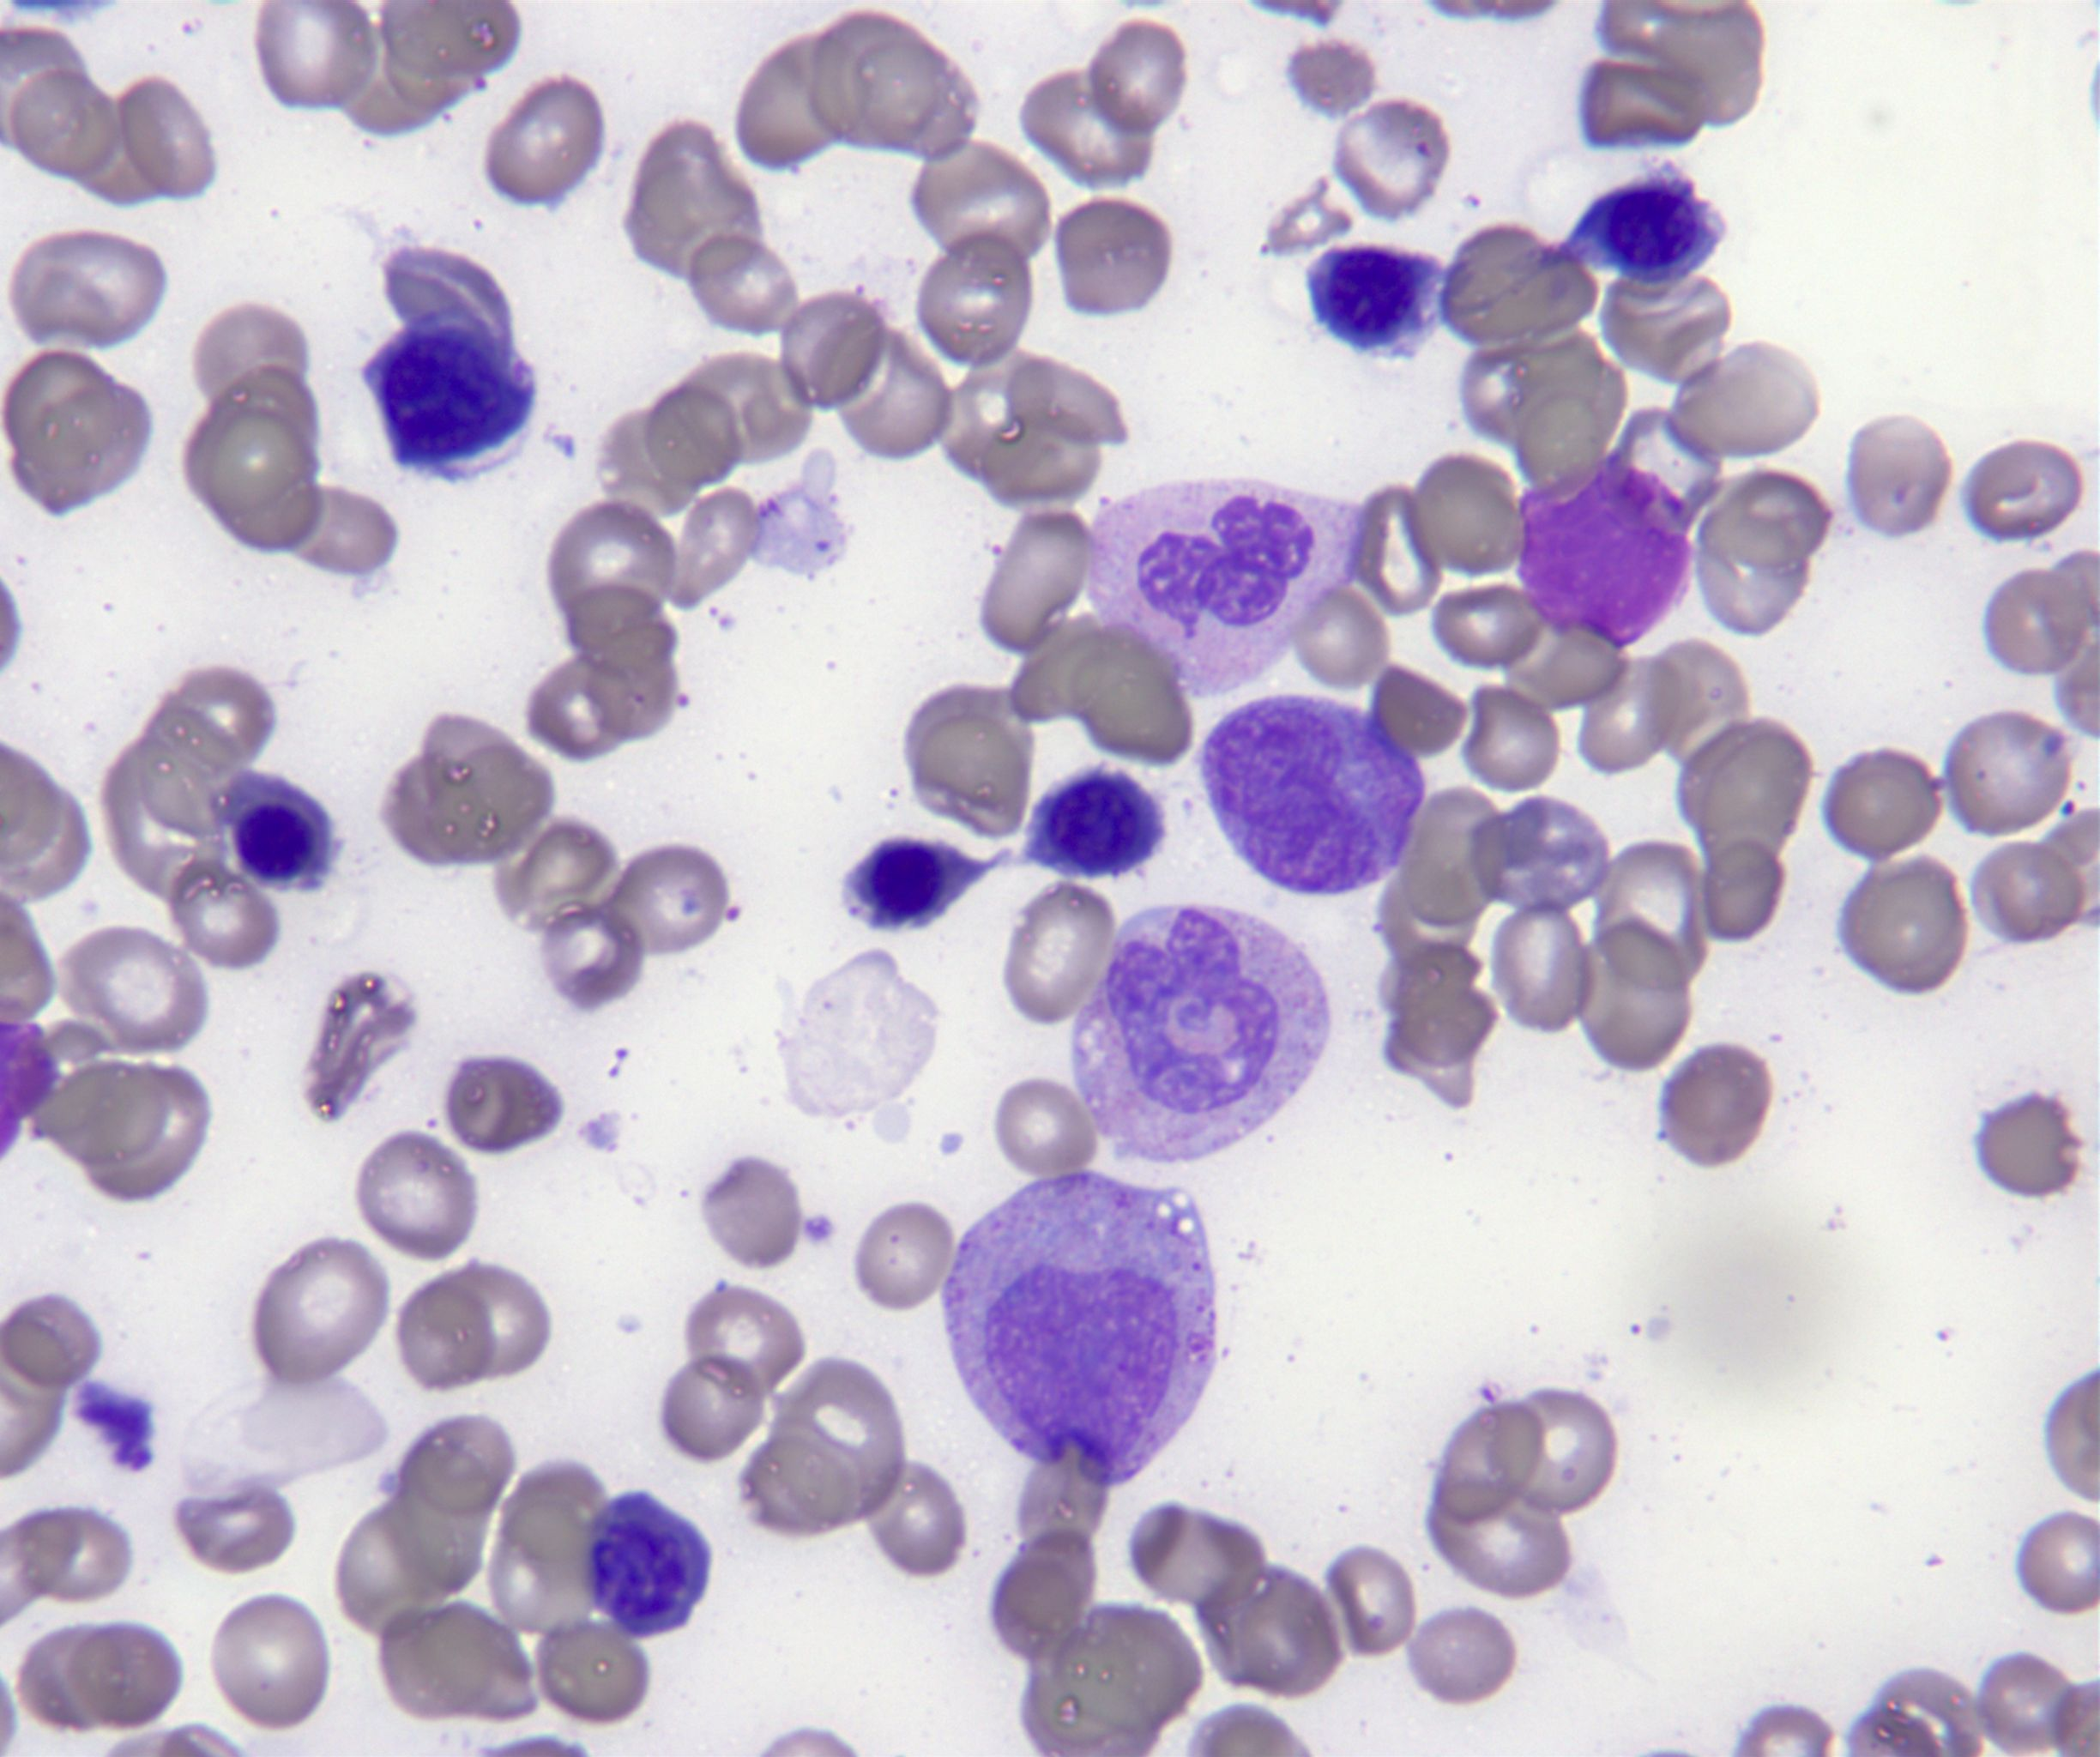23: (358, 305, 537, 482), (1535, 155, 1730, 286), (1306, 244, 1472, 361), (588, 1492, 713, 1637), (1019, 761, 1170, 879), (839, 834, 1012, 935)
24: (213, 768, 345, 892)
3: (942, 1172, 1221, 1488)
42: (1195, 694, 1428, 897)
5: (1069, 904, 1331, 1164)
6: (1073, 475, 1373, 700)
x: (1510, 454, 1694, 646), (0, 1021, 58, 1166)
